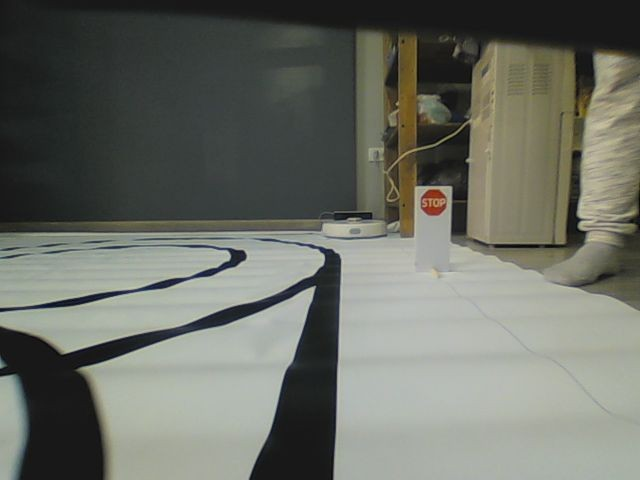Stop: (420, 188, 447, 217)
